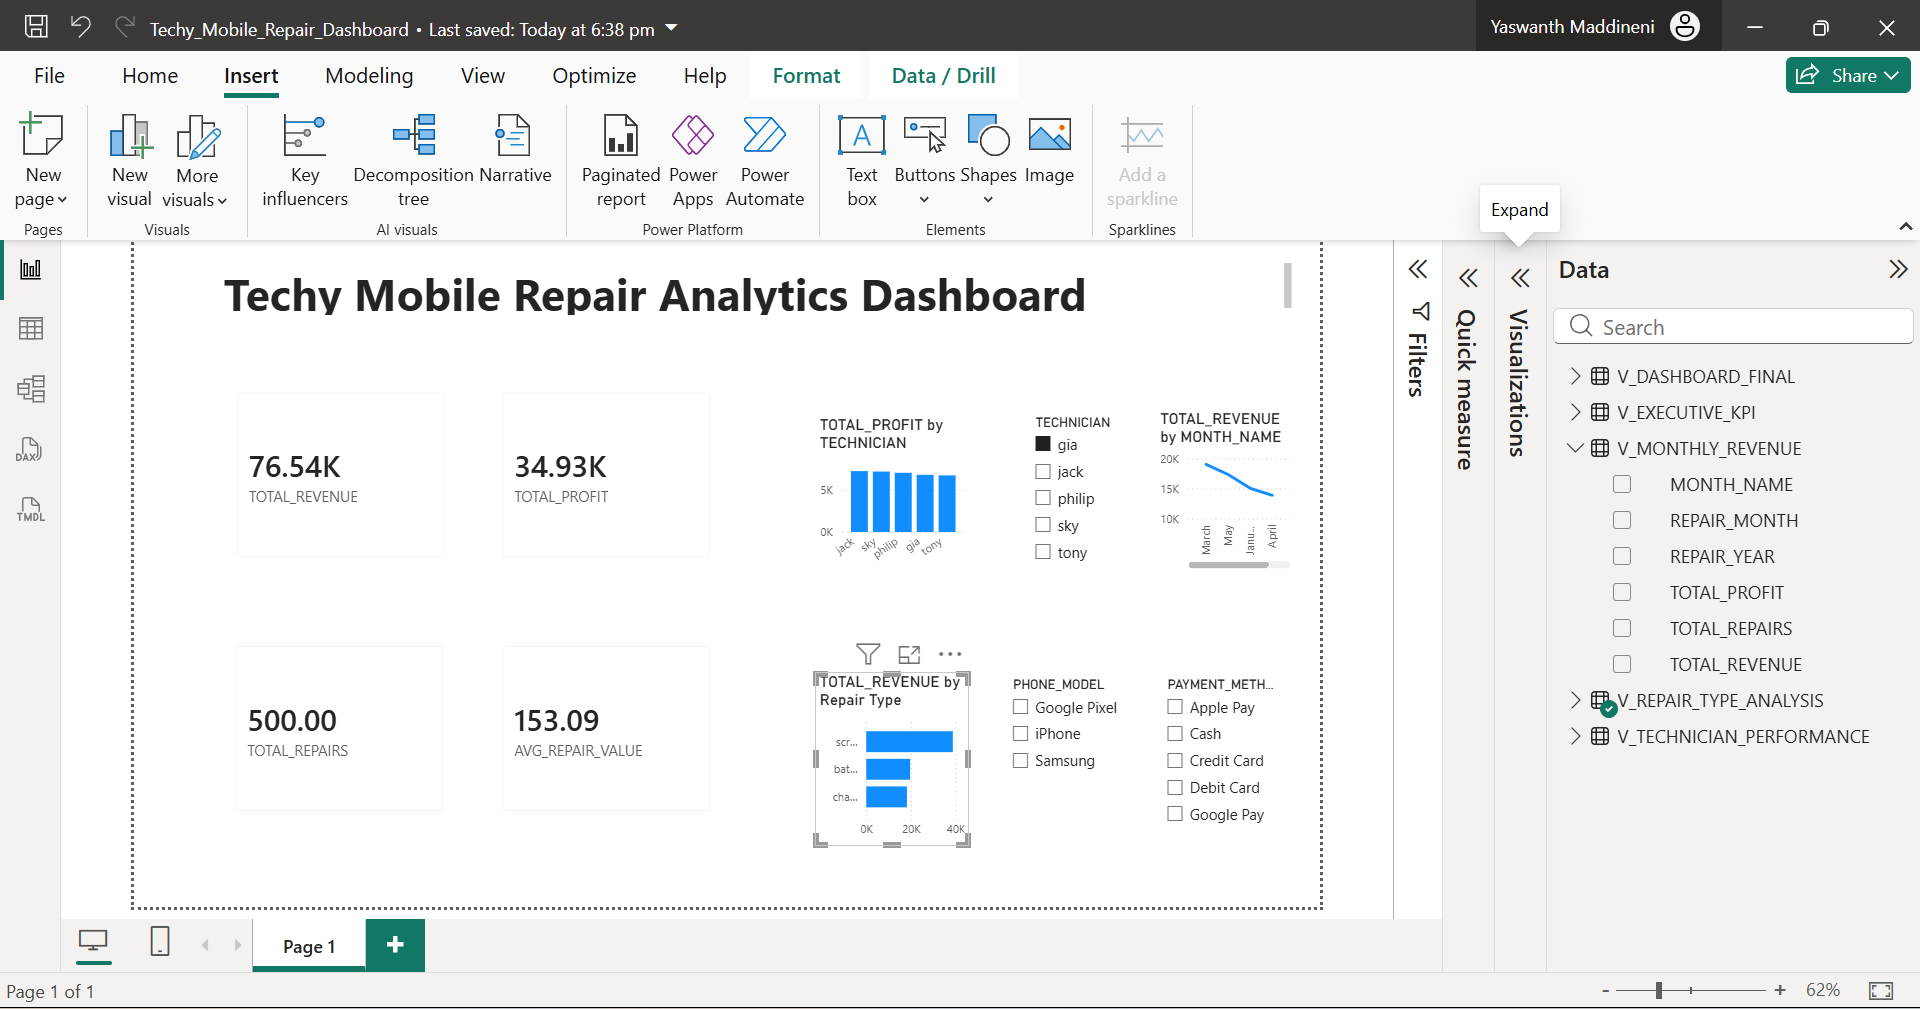

This screenshot's page, from the dashboard's own definition file:
{"tool":"powerbi","page":{"name":"Page 1","canvas":[1280,720],"ordinal":0},"visuals":[{"type":"cardVisual","fields":{"Data":["Sum(V_EXECUTIVE_KPI.TOTAL_REVENUE)"]},"box":[94,146.7,258.9,212.7],"z":0},{"type":"cardVisual","fields":{"Data":["Sum(V_EXECUTIVE_KPI.TOTAL_REPAIRS)"]},"box":[92.3,420.4,258.9,212.7],"z":1000},{"type":"cardVisual","fields":{"Data":["Sum(V_EXECUTIVE_KPI.TOTAL_PROFIT)"]},"box":[380.9,146.7,258.9,212.7],"z":2000},{"type":"cardVisual","fields":{"Data":["Sum(V_EXECUTIVE_KPI.AVG_REPAIR_VALUE)"]},"box":[380.9,420.4,258.9,212.7],"z":3000},{"type":"clusteredColumnChart","fields":{"Category":["V_TECHNICIAN_PERFORMANCE.TECHNICIAN"],"Y":["Sum(V_TECHNICIAN_PERFORMANCE.TOTAL_PROFIT)"]},"box":[735.4,189.6,166.5,176.4],"z":4000},{"type":"clusteredBarChart","fields":{"Y":["Sum(V_REPAIR_TYPE_ANALYSIS.TOTAL_REVENUE)"],"Category":["V_REPAIR_TYPE_ANALYSIS.REPAIR_TYPE"]},"box":[735.4,466.6,166.5,188],"z":4001},{"type":"slicer","fields":{"Values":["V_DASHBOARD_FINAL.TECHNICIAN"]},"box":[959.6,183,168.2,176.4],"z":4002},{"type":"slicer","fields":{"Values":["V_DASHBOARD_FINAL.PHONE_MODEL"]},"box":[936.5,466.6,166.5,188],"z":4003},{"type":"slicer","fields":{"Values":["V_DASHBOARD_FINAL.PAYMENT_METHOD"]},"box":[1103,466.6,151.7,176.4],"z":4004},{"type":"textbox","box":[92.3,19.8,1162.4,66],"z":4005},{"type":"lineChart","fields":{"Category":["V_MONTHLY_REVENUE.MONTH_NAME"],"Y":["Sum(V_MONTHLY_REVENUE.TOTAL_REVENUE)"]},"box":[1103,183,150,176.4],"z":4006}]}

Visuals, with their boxes on the page's 1280x720 design canvas (x1, y1, x2, y2). These are canvas units, not pixel positions in the 1920x1009 screenshot, which may show the page scaled, cropped or inside an application window:
cardVisual - Sum(V_EXECUTIVE_KPI.TOTAL_REVENUE): 94,147,353,359
cardVisual - Sum(V_EXECUTIVE_KPI.TOTAL_REPAIRS): 92,420,351,633
cardVisual - Sum(V_EXECUTIVE_KPI.TOTAL_PROFIT): 381,147,640,359
cardVisual - Sum(V_EXECUTIVE_KPI.AVG_REPAIR_VALUE): 381,420,640,633
clusteredColumnChart - V_TECHNICIAN_PERFORMANCE.TECHNICIAN x Sum(V_TECHNICIAN_PERFORMANCE.TOTAL_PROFIT): 735,190,902,366
clusteredBarChart - Sum(V_REPAIR_TYPE_ANALYSIS.TOTAL_REVENUE) x V_REPAIR_TYPE_ANALYSIS.REPAIR_TYPE: 735,467,902,655
slicer - V_DASHBOARD_FINAL.TECHNICIAN: 960,183,1128,359
slicer - V_DASHBOARD_FINAL.PHONE_MODEL: 936,467,1103,655
slicer - V_DASHBOARD_FINAL.PAYMENT_METHOD: 1103,467,1255,643
textbox: 92,20,1255,86
lineChart - V_MONTHLY_REVENUE.MONTH_NAME x Sum(V_MONTHLY_REVENUE.TOTAL_REVENUE): 1103,183,1253,359
